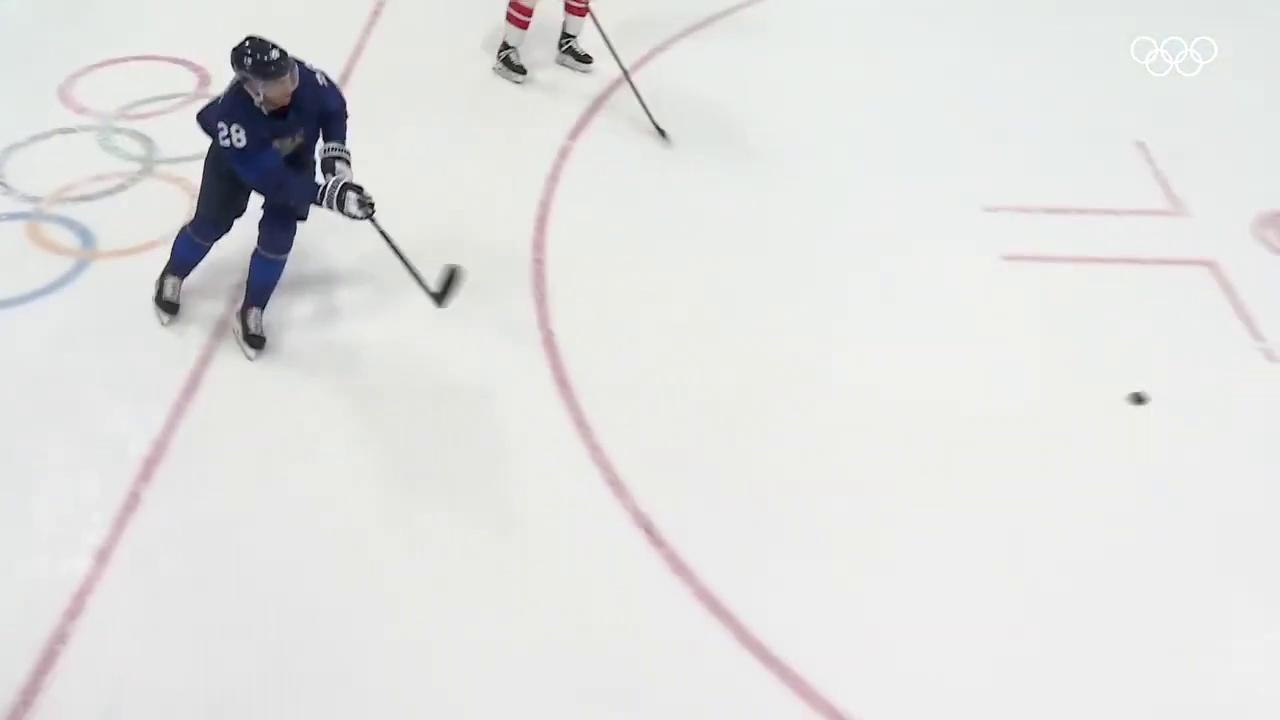ball: (1125, 391, 1152, 406)
